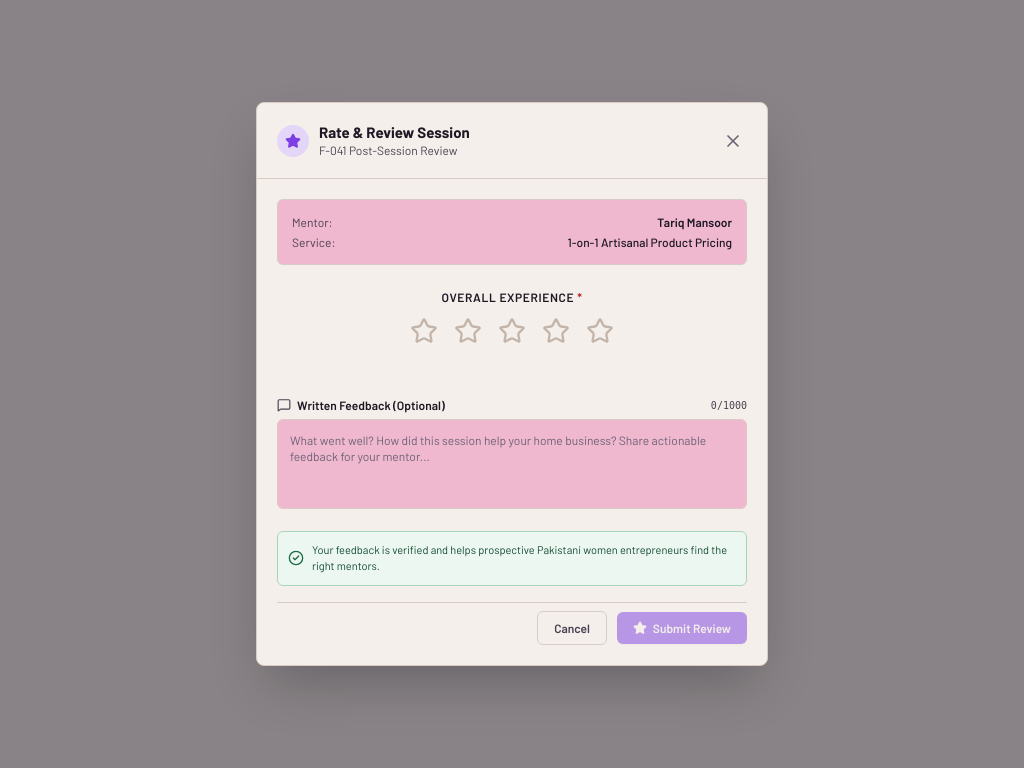
Test: ReviewModal (Task 46 / F-041) › enforces rating selection before submission
Expected: the button "Submit Review" is disabled, [617,612,747,644]
What coordinates should you click on to do the following:
click the button named "4 stars"
I would click on:
 (556, 331)
Its box is [538,313,574,349].
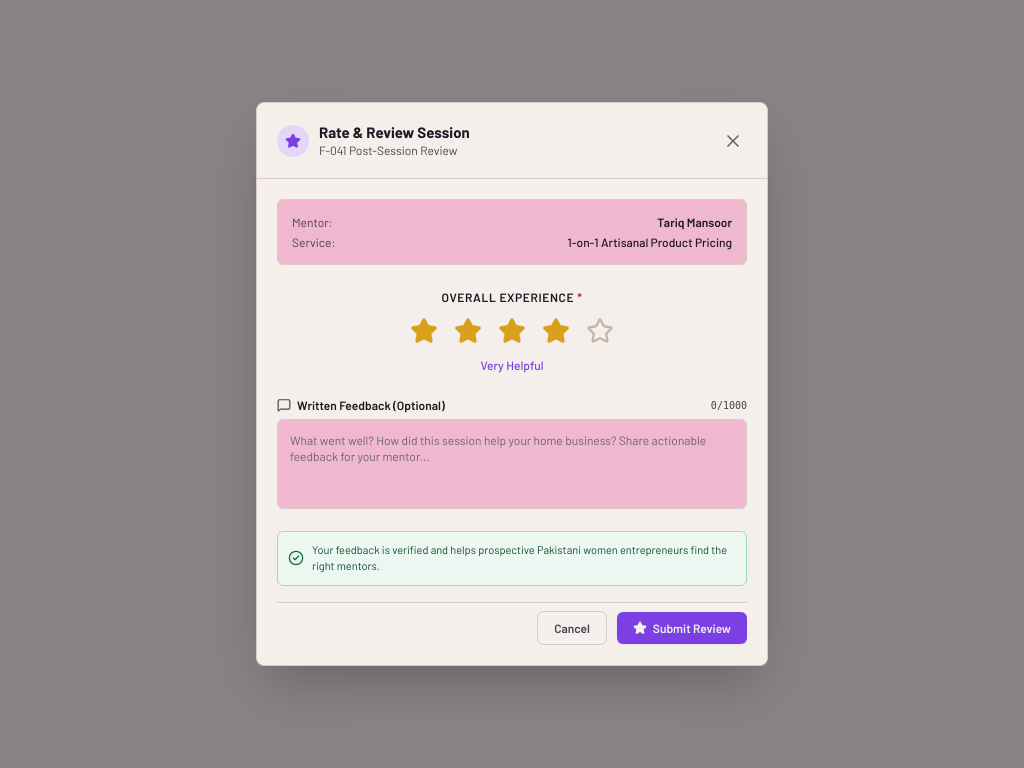
Expected: the button "Submit Review" is enabled, [617,612,747,644]
Expected: the text "Very Helpful" is shown, [480,358,544,372]
